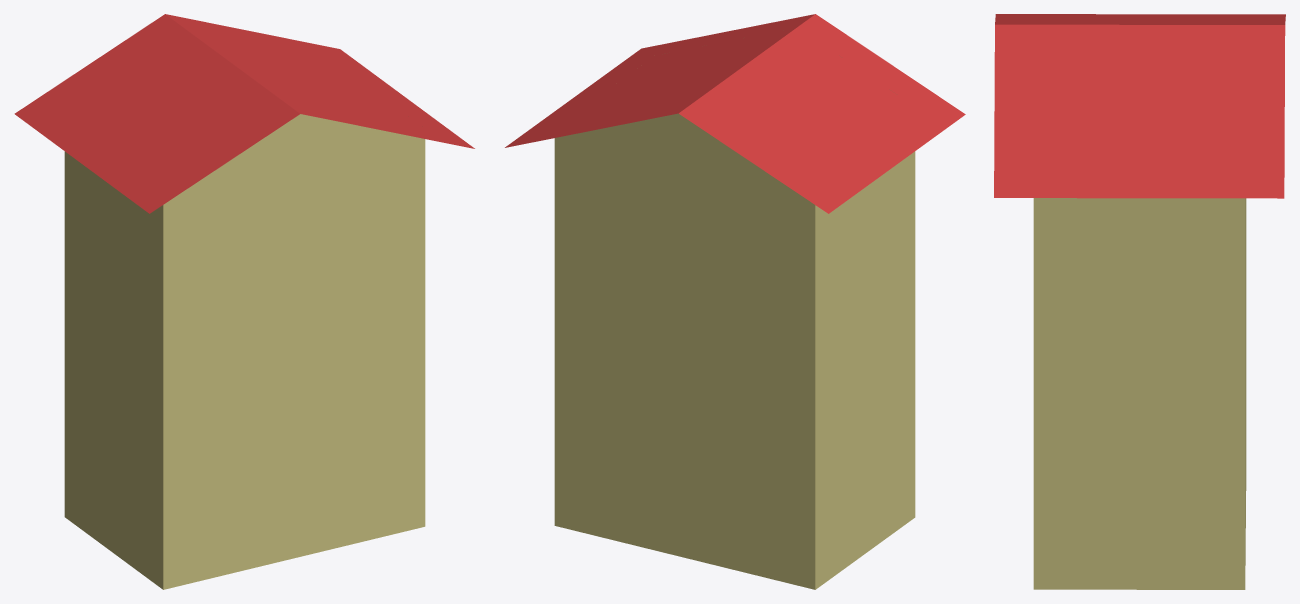
The picture shows the model from 3 angles, left to right: view 1: azimuth 30°, elevation 25°; view 2: azimuth 150°, elevation 25°; view 3: azimuth 270°, elevation 25°; orthographic projection. The views are drawn at different scales.
Bounding box in the file's own units: 5.1 × 3.71 × 6.89.
